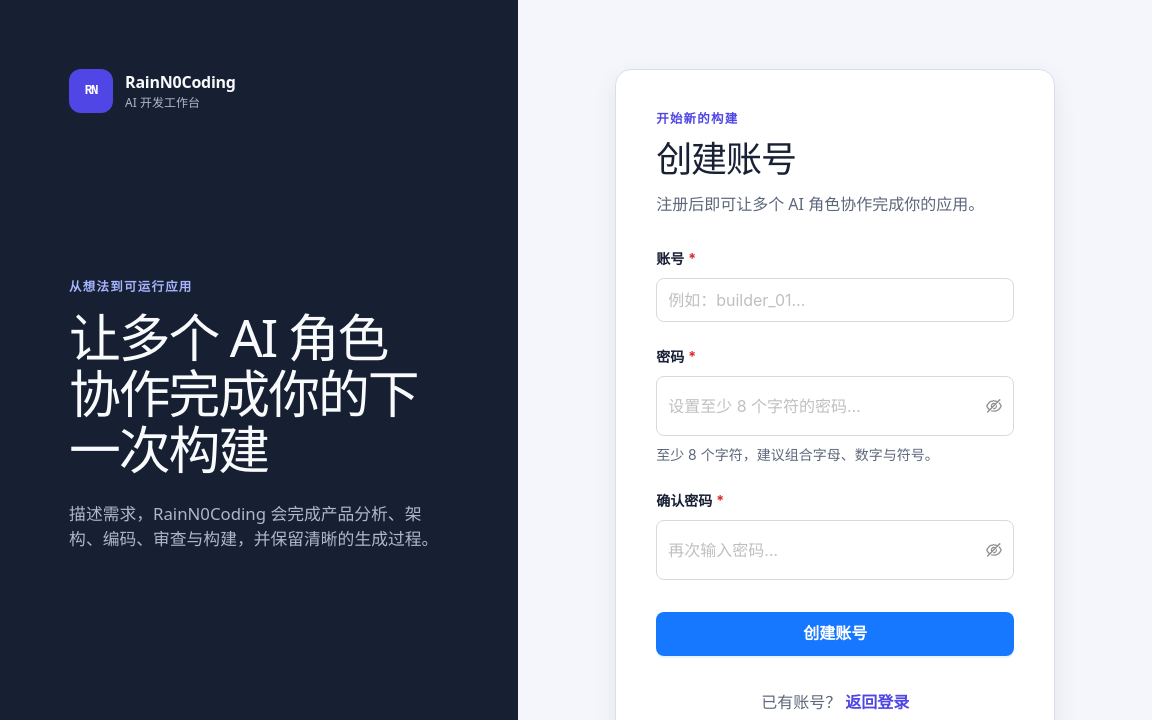
RegisterPage › keeps entered values and shows a local error when registration fails
Type "builder" into the field with id "register-account".
click(835, 300); type("builder")  # box top-left (656, 278), bottom-right (1014, 322)
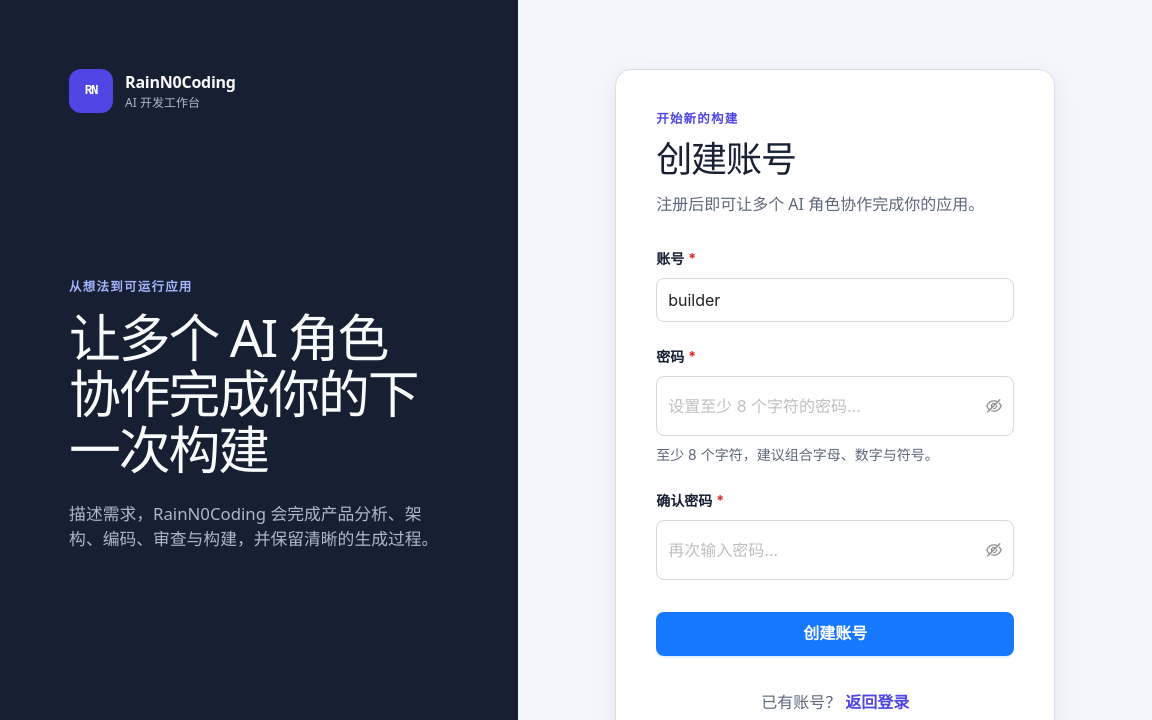
Type "safe-pass-123" into the password field with id "register-password".
click(825, 406); type("safe-pass-123")  # box top-left (668, 384), bottom-right (982, 428)
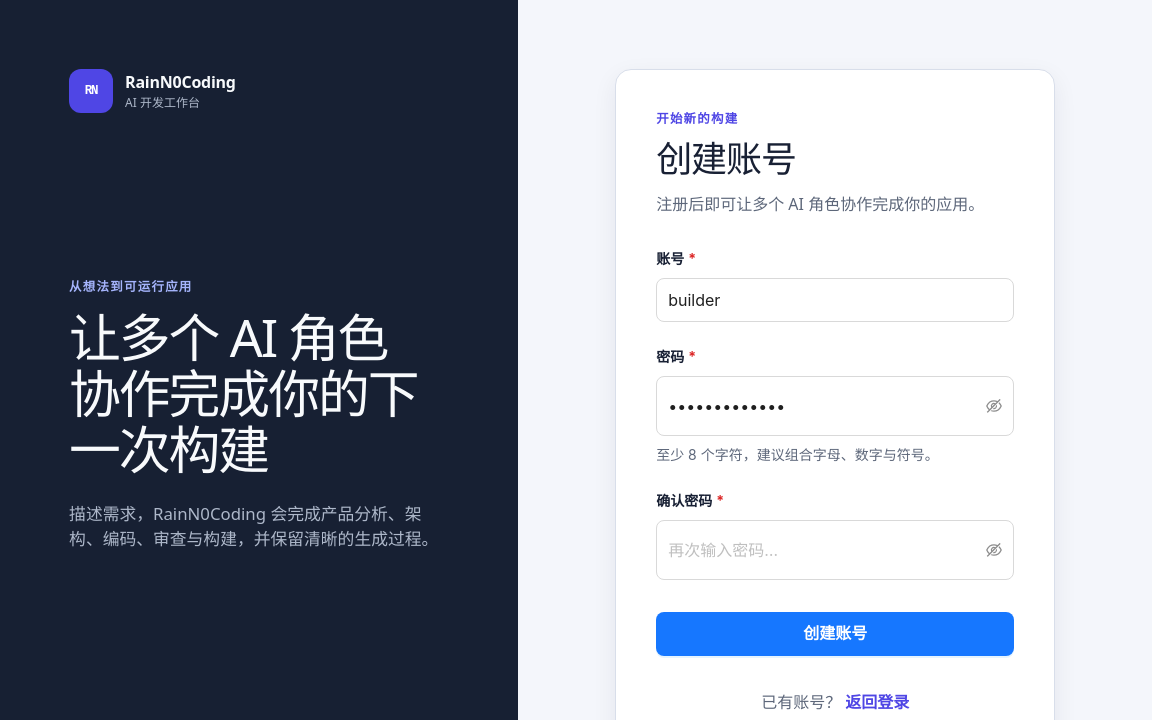
Type "safe-pass-123" into the password field with id "register-check-password".
click(825, 550); type("safe-pass-123")  # box top-left (668, 528), bottom-right (982, 572)
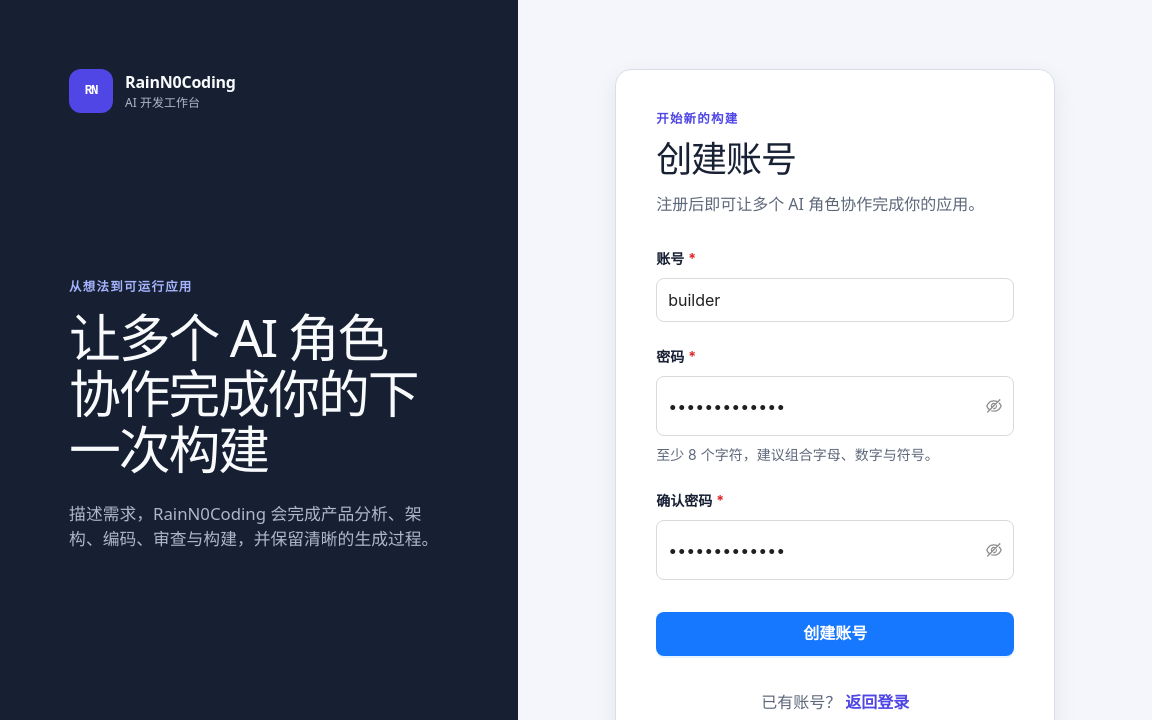
Submit the form, box top-left (656, 248), bottom-right (1014, 656)
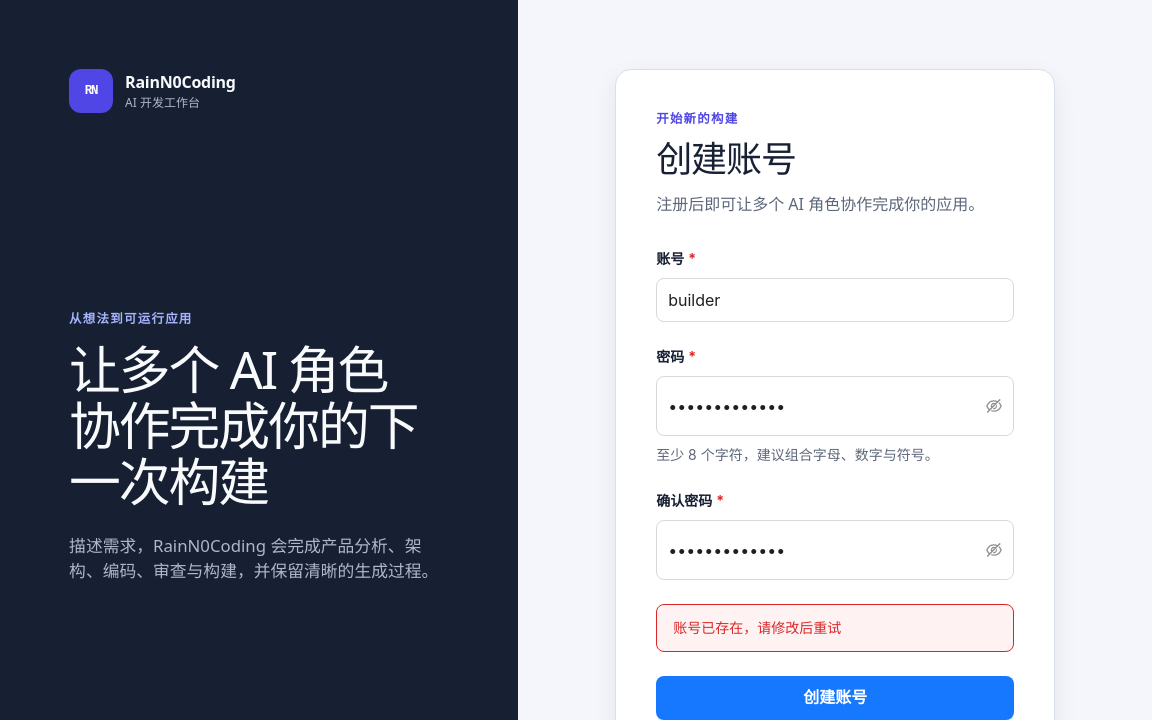
Expected: the submit button is enabled, top-left (656, 676), bottom-right (1014, 719)
Result: the message "账号已存在，请修改后重试" is shown at top-left (656, 604), bottom-right (1014, 652)
